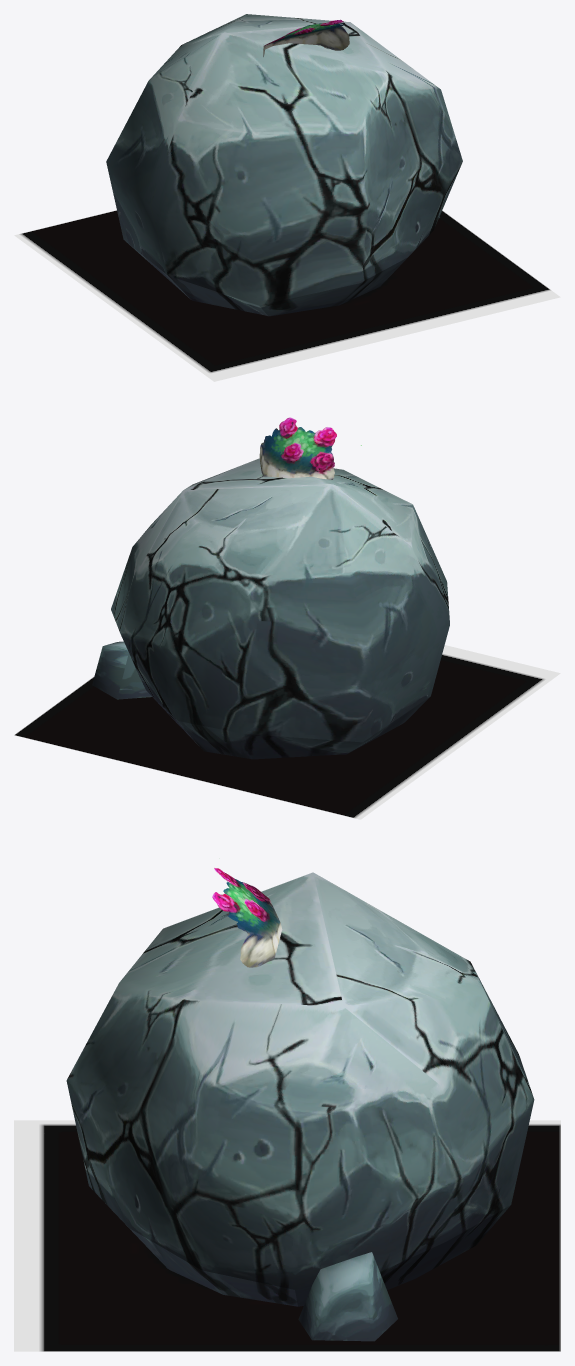
Rendered from Gimmick_Break_Rock02.fbx.
3 views of the same model, one above another, from view 1: azimuth 30°, elevation 25°; view 2: azimuth 150°, elevation 25°; view 3: azimuth 270°, elevation 25° (orthographic). The views are drawn at different scales.
Parts seen in each view (by area): view 1: Gimmick_Break_Storn002, Gimmick_Shadow_maru1, gimmick_break04; view 2: Gimmick_Break_Storn002, Gimmick_Shadow_maru1, gimmick_break04; view 3: Gimmick_Break_Storn002, Gimmick_Shadow_maru1, gimmick_break04.
Boxes of the visible parts, left/top/right/bottom form: Gimmick_Break_Storn002: left=106, top=14, right=462, bottom=316; Gimmick_Shadow_maru1: left=14, top=210, right=560, bottom=381; gimmick_break04: left=263, top=19, right=349, bottom=56; Gimmick_Break_Storn002: left=92, top=458, right=449, bottom=759; Gimmick_Shadow_maru1: left=14, top=645, right=560, bottom=819; gimmick_break04: left=259, top=417, right=361, bottom=479; Gimmick_Break_Storn002: left=66, top=872, right=534, bottom=1341; Gimmick_Shadow_maru1: left=14, top=1120, right=560, bottom=1351; gimmick_break04: left=212, top=867, right=282, bottom=967.
Size of the model in its own units: 2.67 by 1.98 by 2.67.
